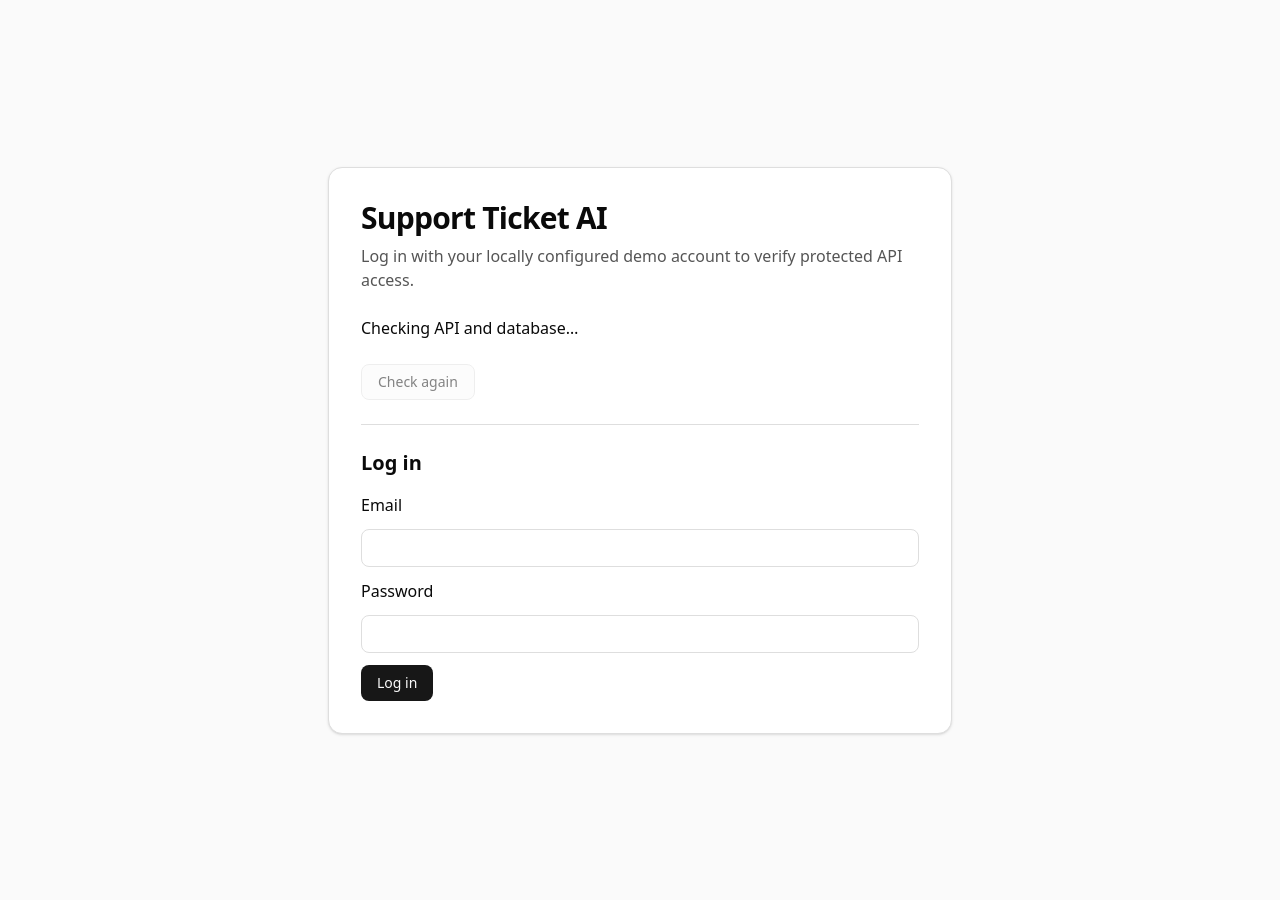
it: chat-first support › clears accepted reply draft while network is pending
Type "demo@example.test" into the field labelled "Email" at [640, 548], box 361,528 -> 919,566
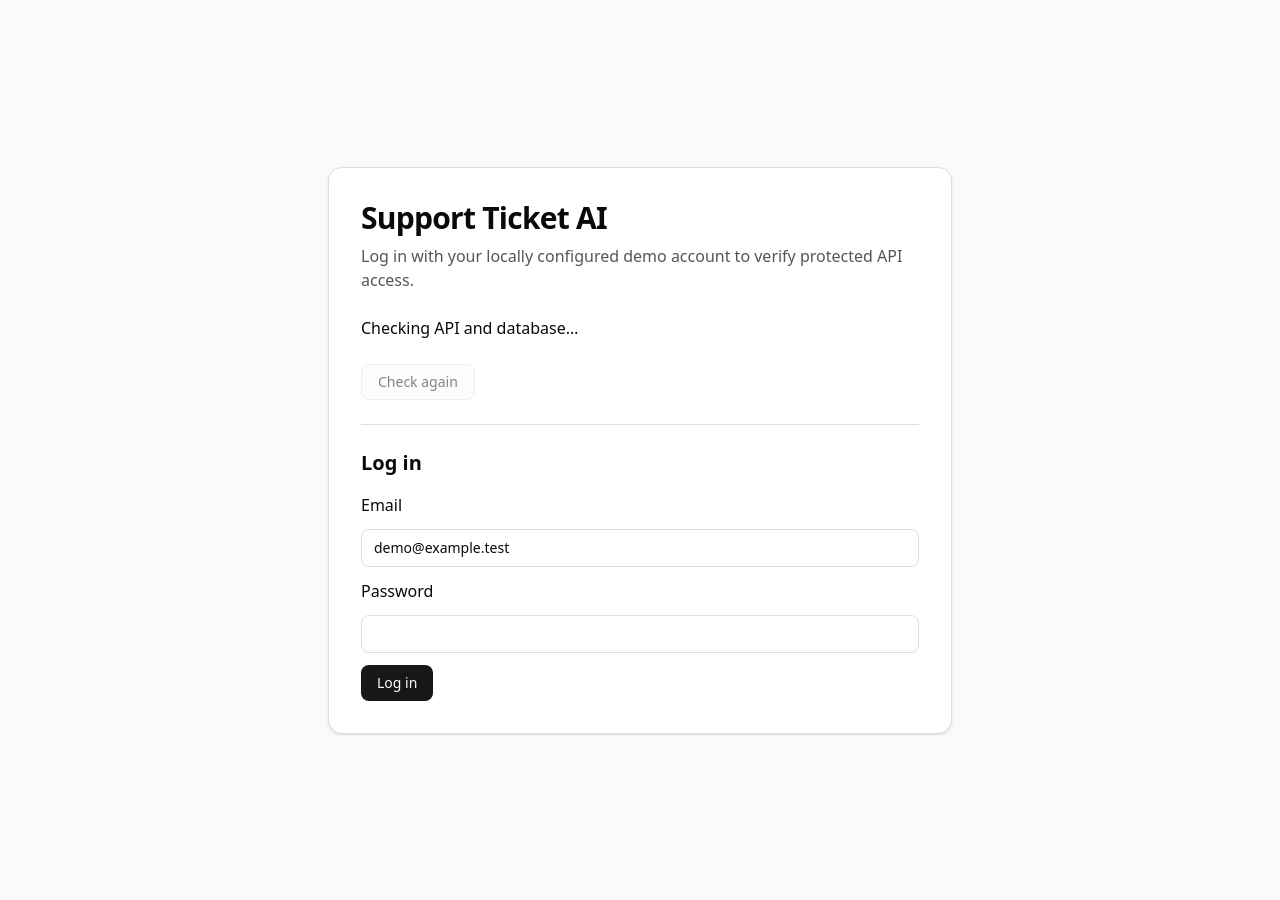
Type "synthetic-password" into the password field labelled "Password" at [640, 634], box 361,614 -> 919,652
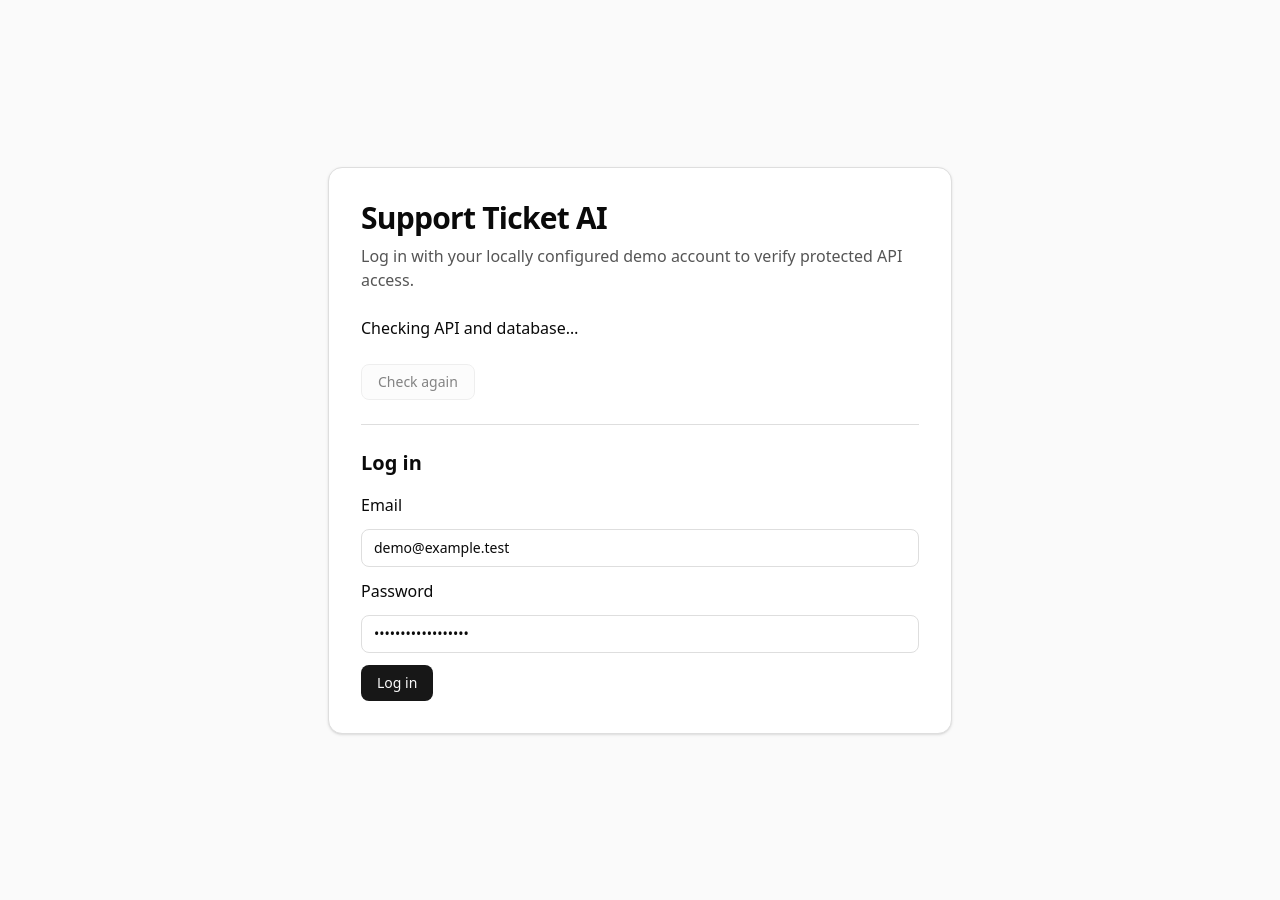
Click the button "Log in" at [397, 682], box 361,664 -> 433,700
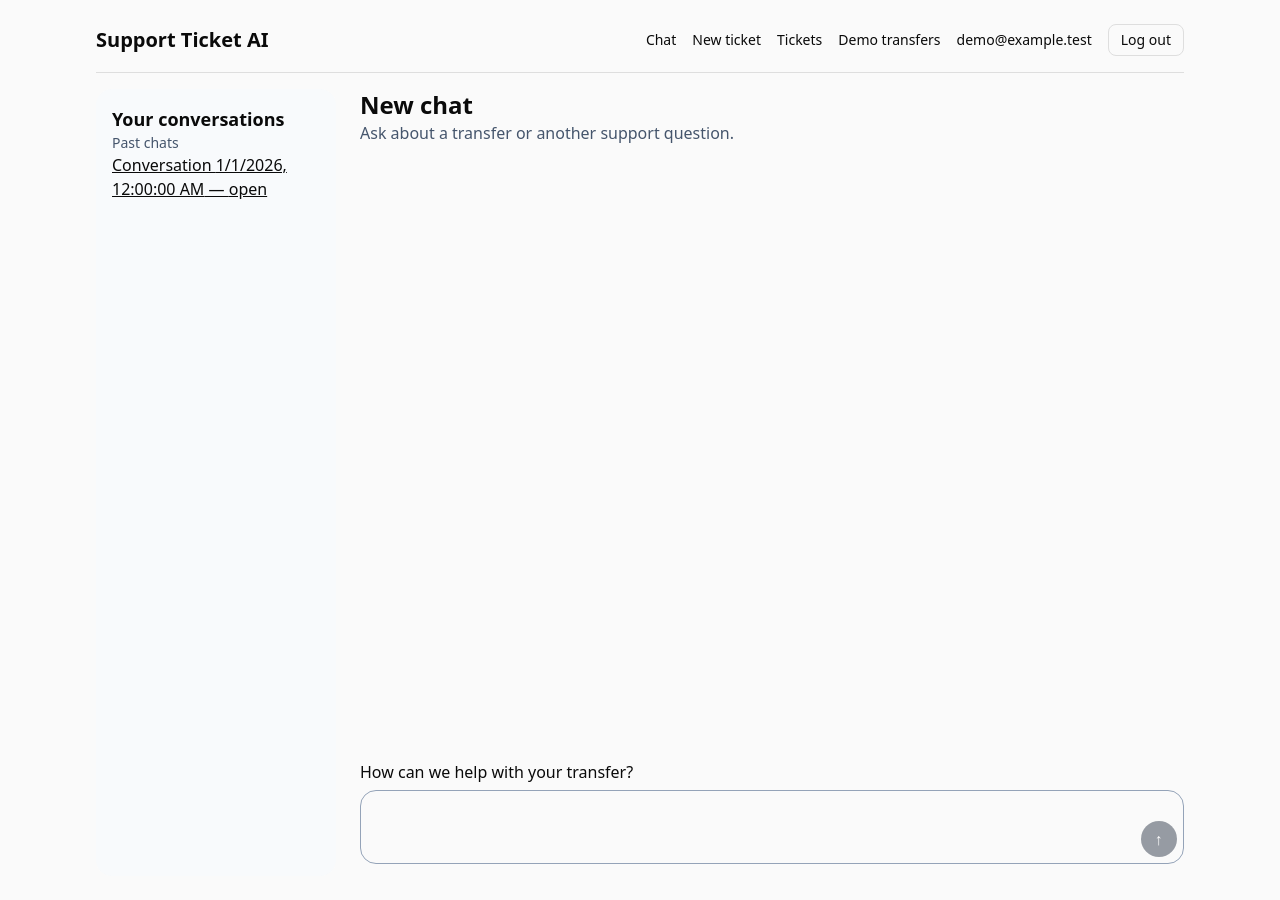
Check: the text "demo@example.test" is shown, box 957,30 -> 1092,50
Click the link "Conversation 1/1/2026, 12:00:00 AM — open" at [164, 165], box 112,154 -> 287,200
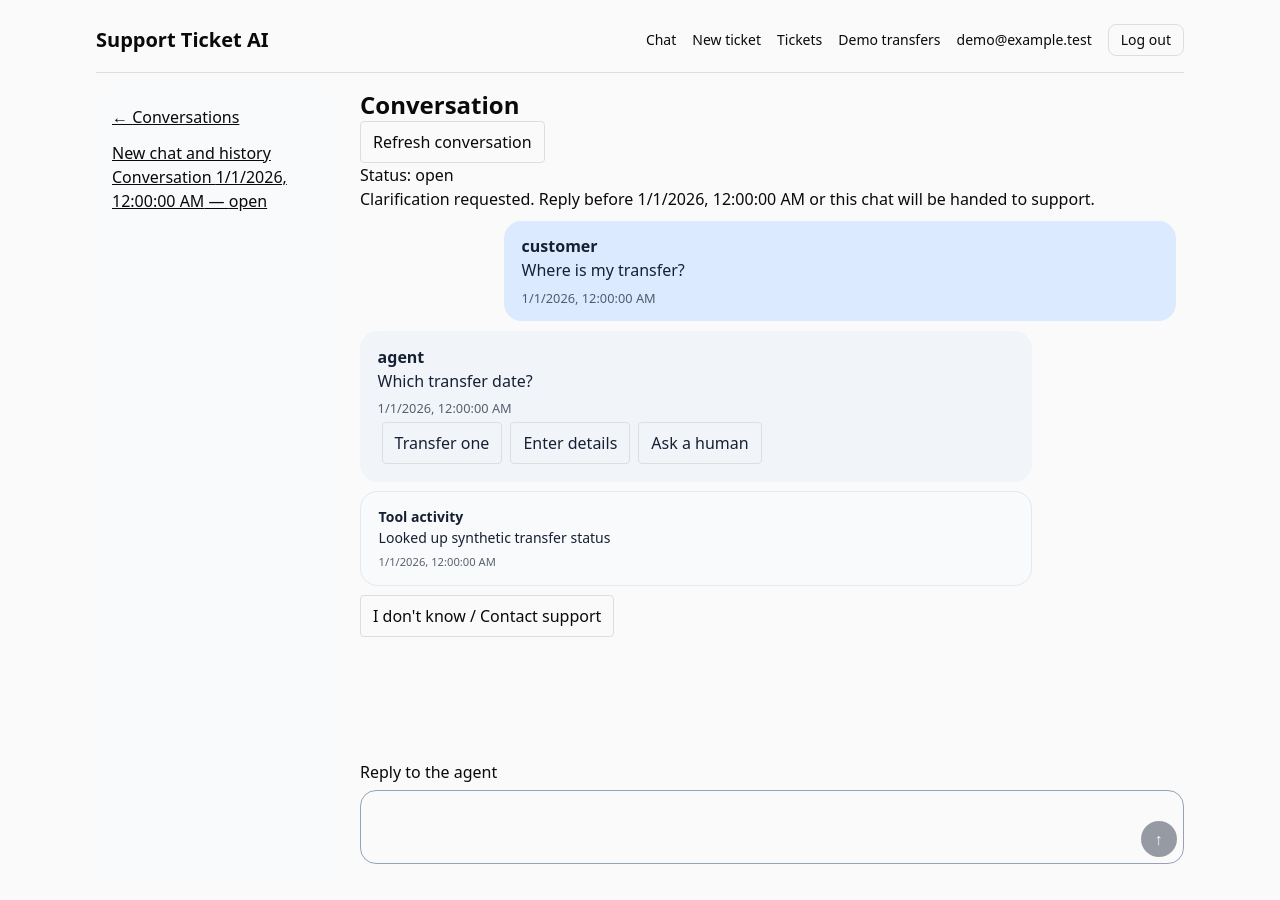
Check: the text "Which transfer date?" is shown, box 378,370 -> 533,392
Type "  June 1  " into the text box labelled "Reply to the agent" at [750, 827], box 367,797 -> 1133,857
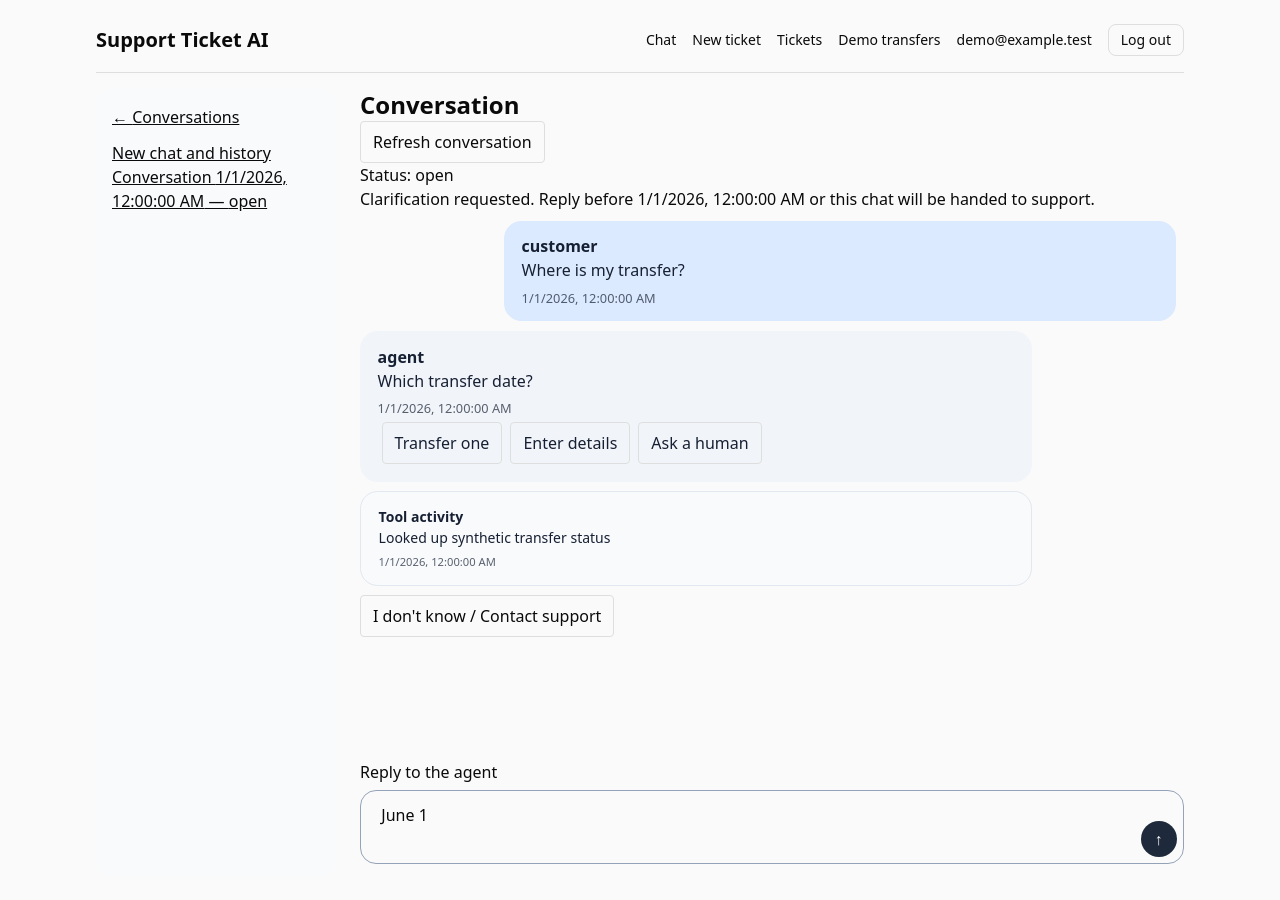
Click the button named "Send message" at [1159, 839], box 1141,821 -> 1177,857
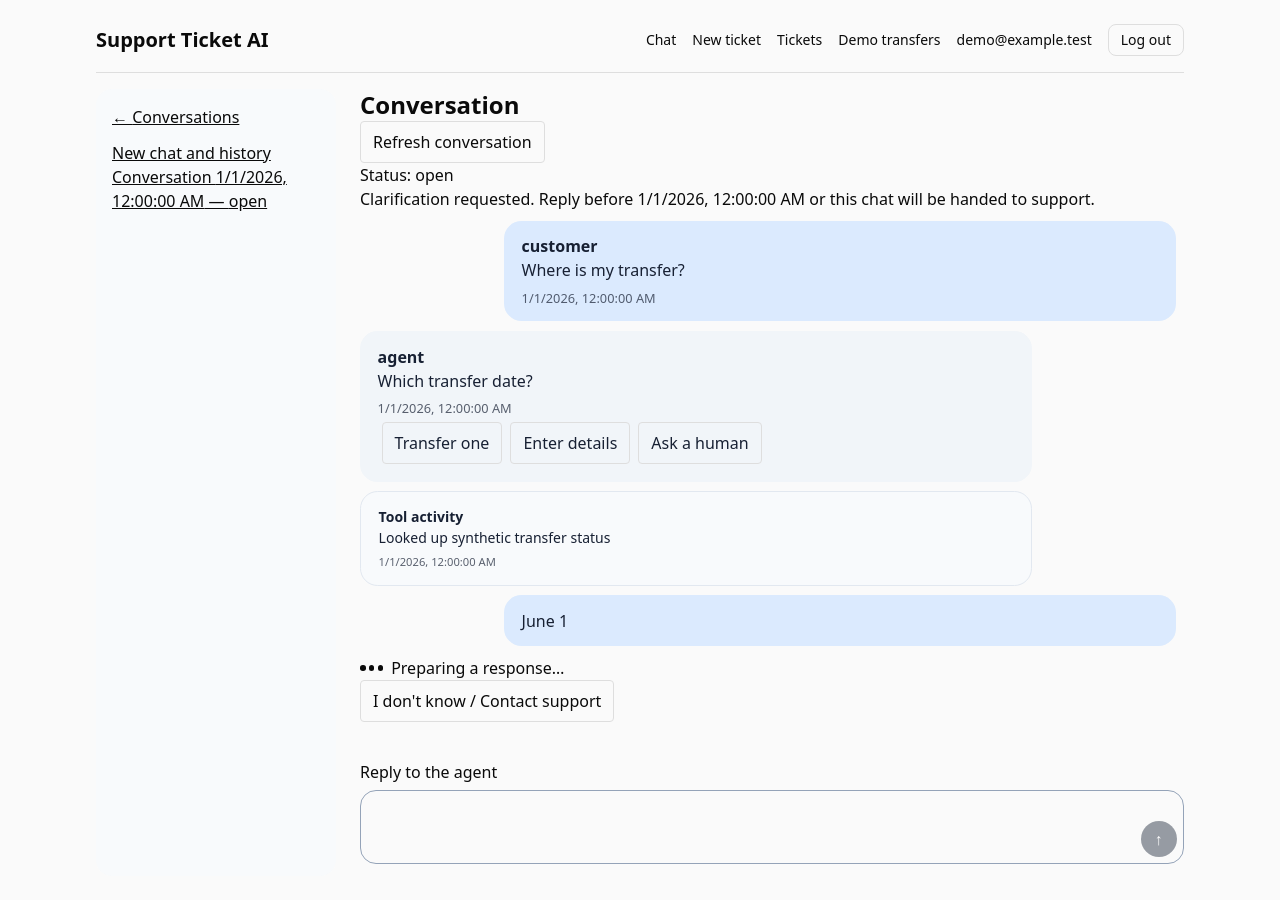
Check: the text "June 1" is shown, box 504,595 -> 1176,646
Check: the text box labelled "Reply to the agent" is empty, box 367,797 -> 1133,857
